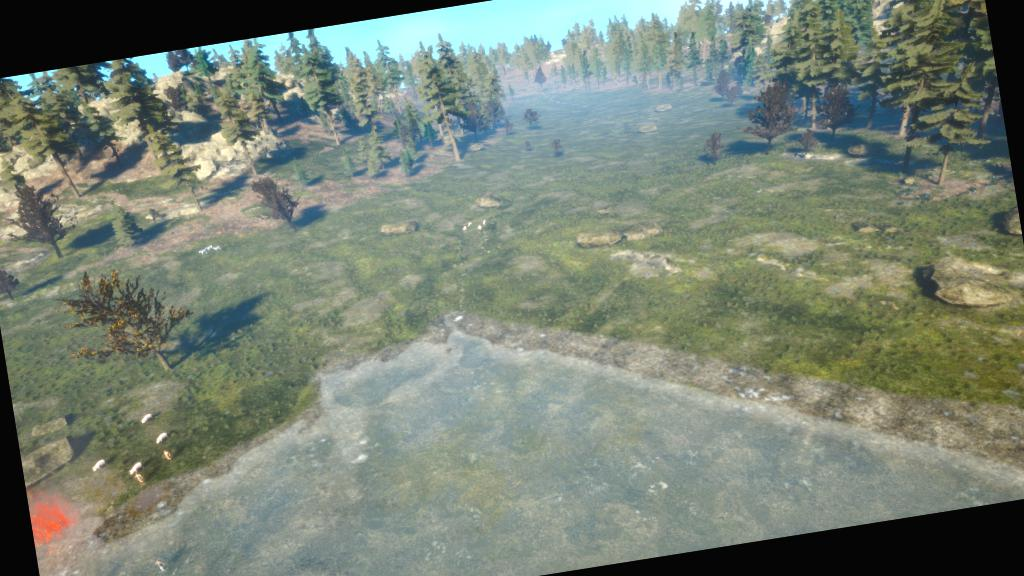Fire: (29, 506, 68, 539)
human: (158, 445, 178, 468)
pig: (78, 442, 116, 480), (131, 405, 158, 430)
